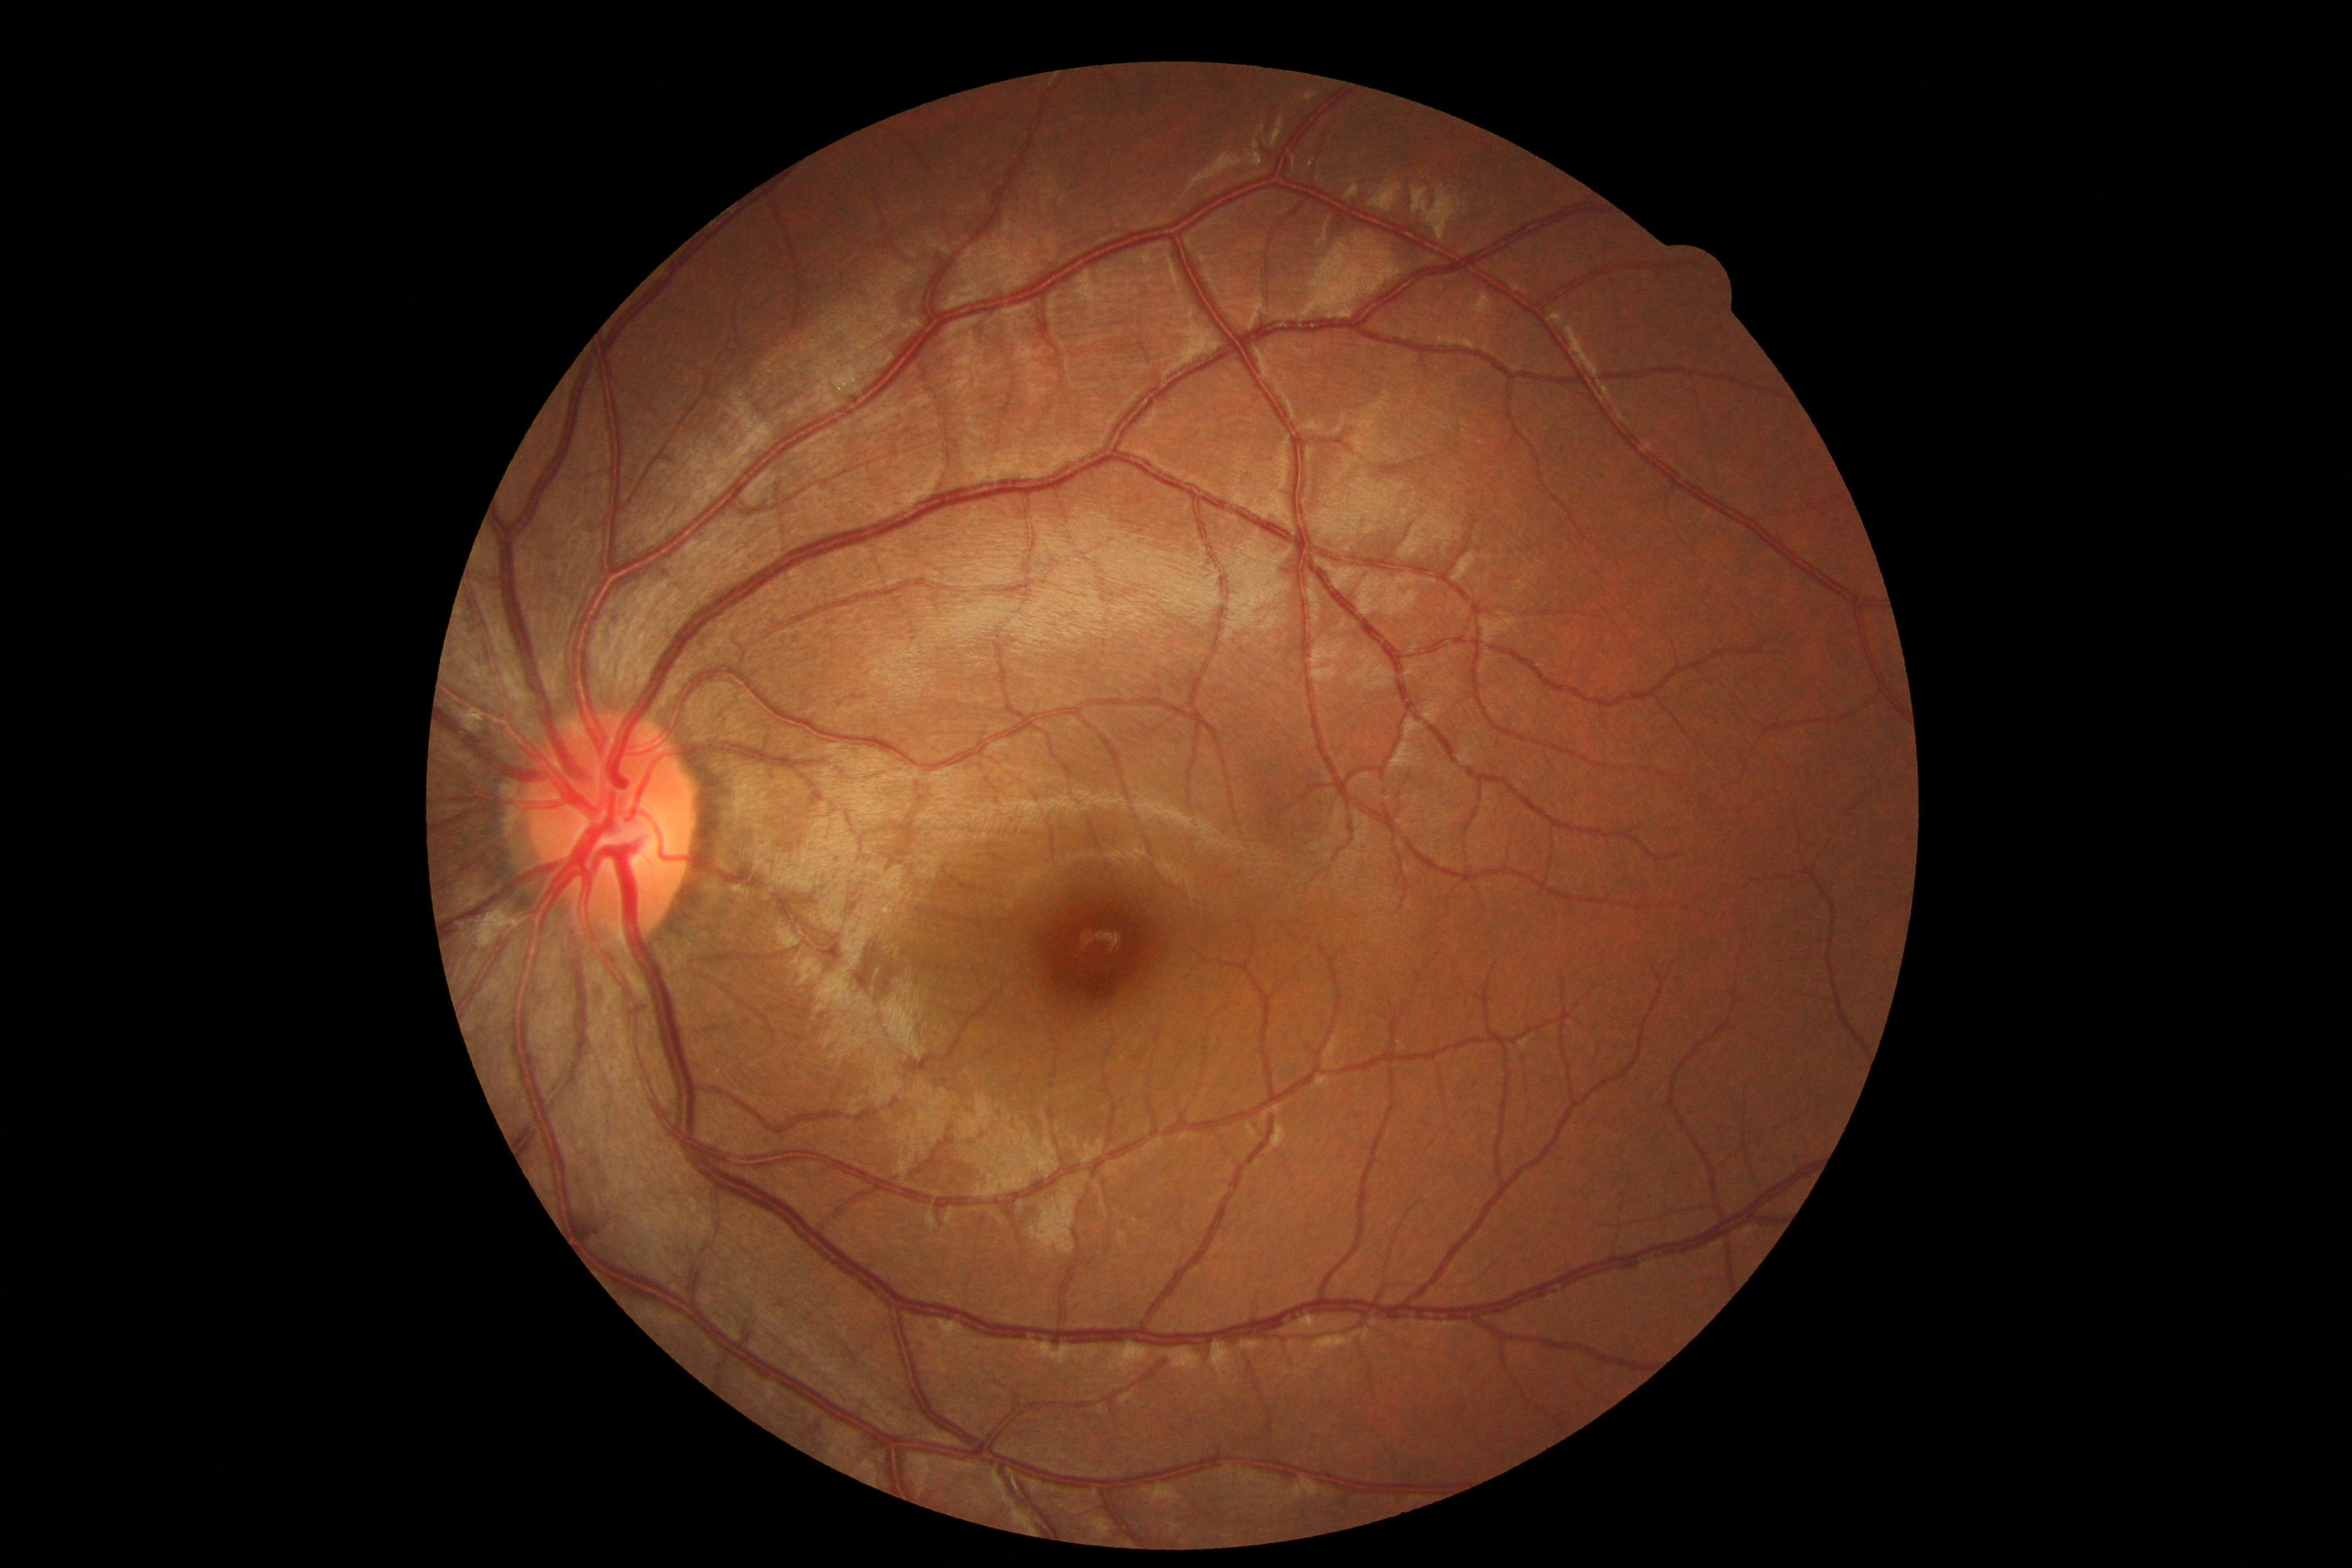Optic-nerve: (509, 684, 707, 941)
macula: (1017, 887, 1186, 1025)
notch: (1655, 234, 1741, 327)
